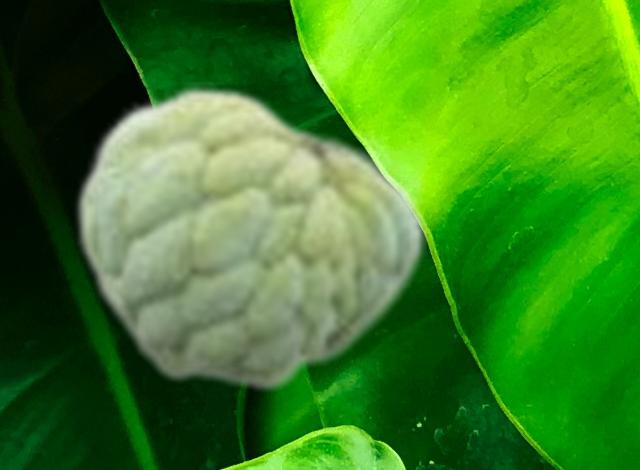atis: (72, 82, 425, 394)
